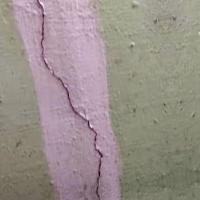crack: (26, 2, 113, 199)
